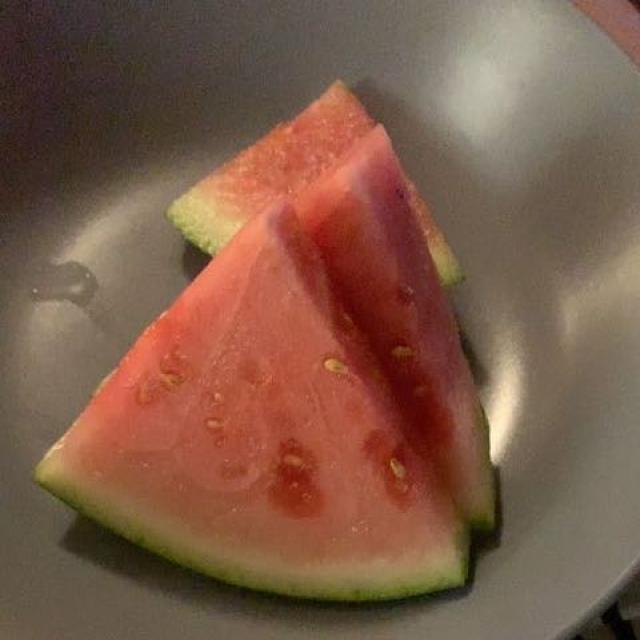watermelon-fresh: (49, 93, 491, 590)
